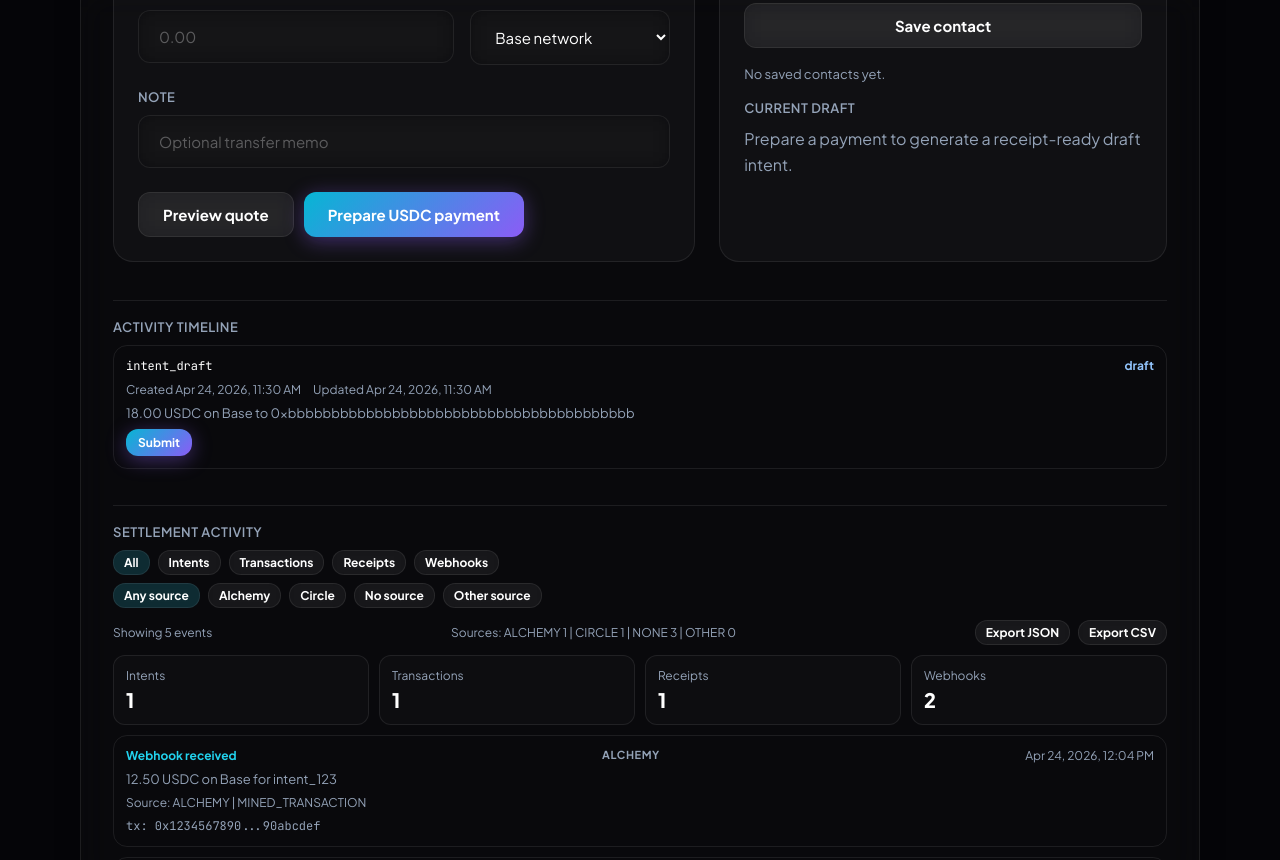
Scenario: ProductionWalletApp › submits and confirms an existing draft intent
(page scrolled)
Click the button "Submit".
click(159, 443)  # box [126,429,192,456]
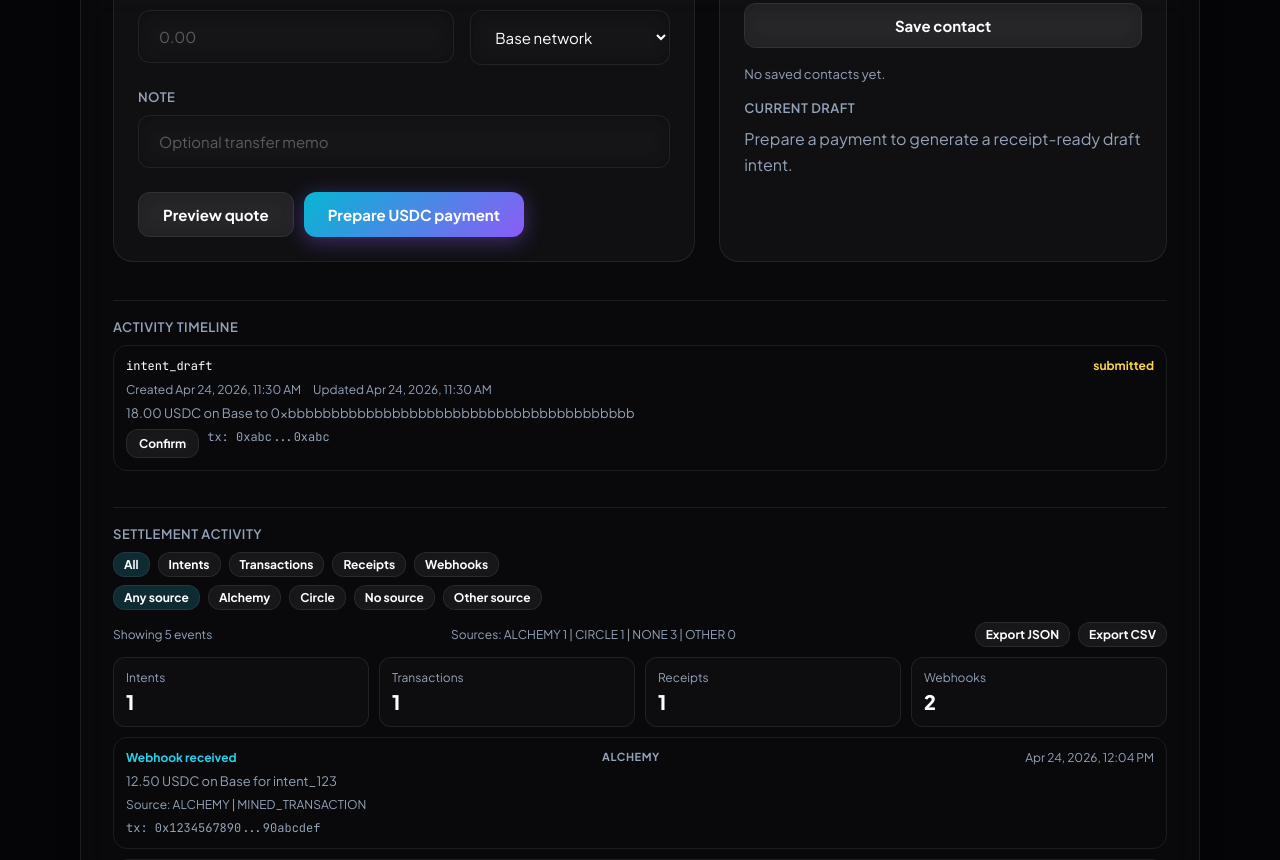
Click the button "Confirm".
click(163, 444)  # box [126,429,199,458]
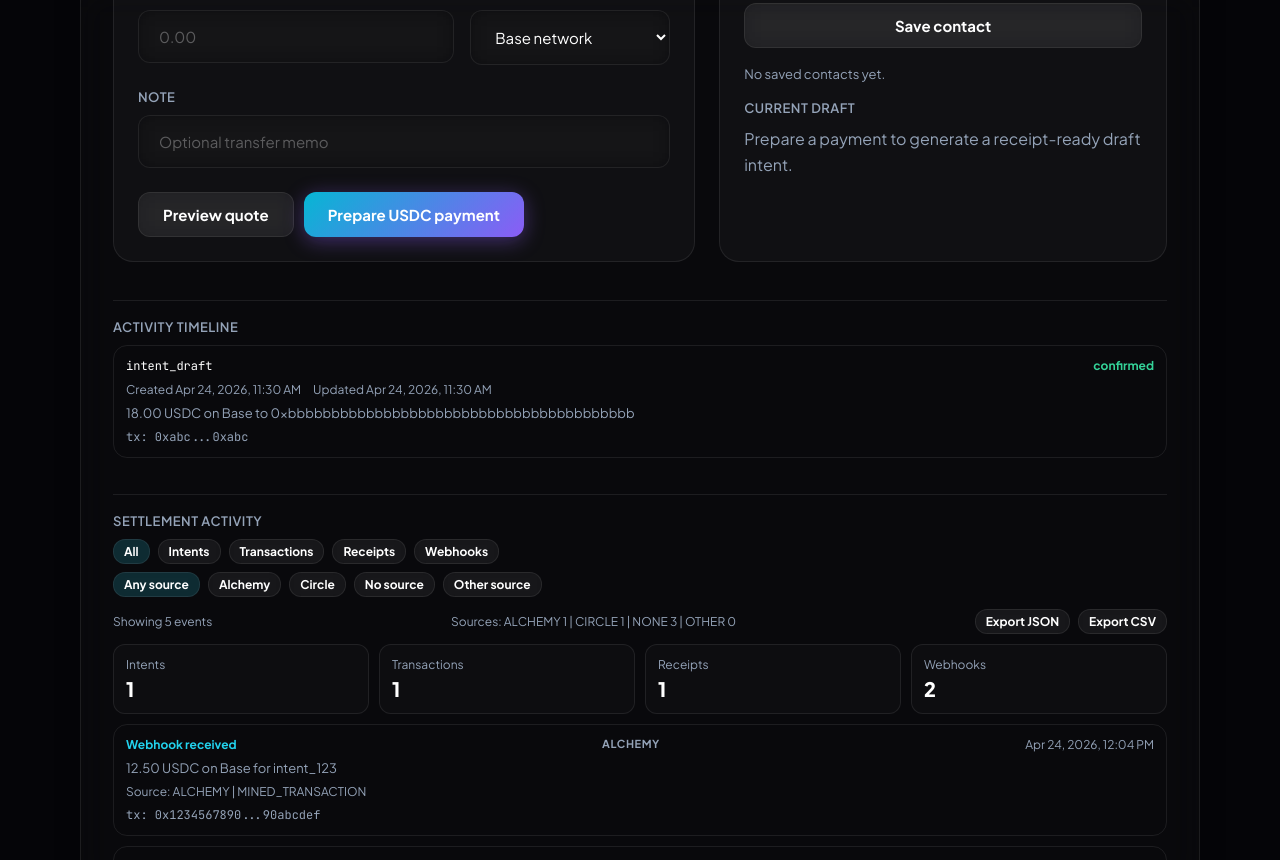
Now the text "confirmed" is shown, box [1093,358,1154,374]
